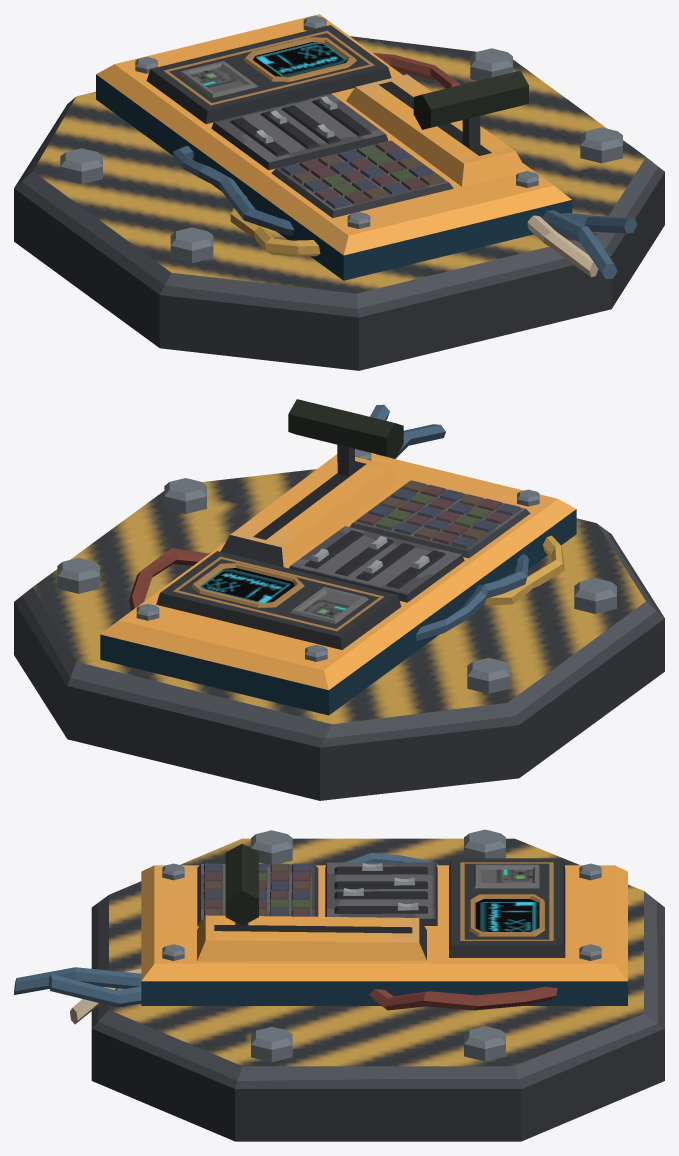
The model's file is SM_Prop_Pipe_Junction_Attatchment_04.fbx.
3 renders of one model, top to bottom at view 1: azimuth 30°, elevation 25°; view 2: azimuth 150°, elevation 25°; view 3: azimuth 270°, elevation 25°, orthographic.
Parts seen in each view (by area): view 1: SM_Prop_Pipe_Junction_Attatchment_04, SM_Prop_Pipe_Junction_Attatchment_04_Lever; view 2: SM_Prop_Pipe_Junction_Attatchment_04, SM_Prop_Pipe_Junction_Attatchment_04_Lever; view 3: SM_Prop_Pipe_Junction_Attatchment_04, SM_Prop_Pipe_Junction_Attatchment_04_Lever.
Part boxes in pixels (x1=…): SM_Prop_Pipe_Junction_Attatchment_04: x1=14, y1=14, x2=664, y2=370; SM_Prop_Pipe_Junction_Attatchment_04_Lever: x1=413, y1=70, x2=528, y2=148; SM_Prop_Pipe_Junction_Attatchment_04: x1=14, y1=404, x2=664, y2=800; SM_Prop_Pipe_Junction_Attatchment_04_Lever: x1=288, y1=399, x2=403, y2=476; SM_Prop_Pipe_Junction_Attatchment_04: x1=14, y1=829, x2=664, y2=1141; SM_Prop_Pipe_Junction_Attatchment_04_Lever: x1=225, y1=844, x2=258, y2=930.
Size of the model in its own units: 114 by 40.06 by 129.
